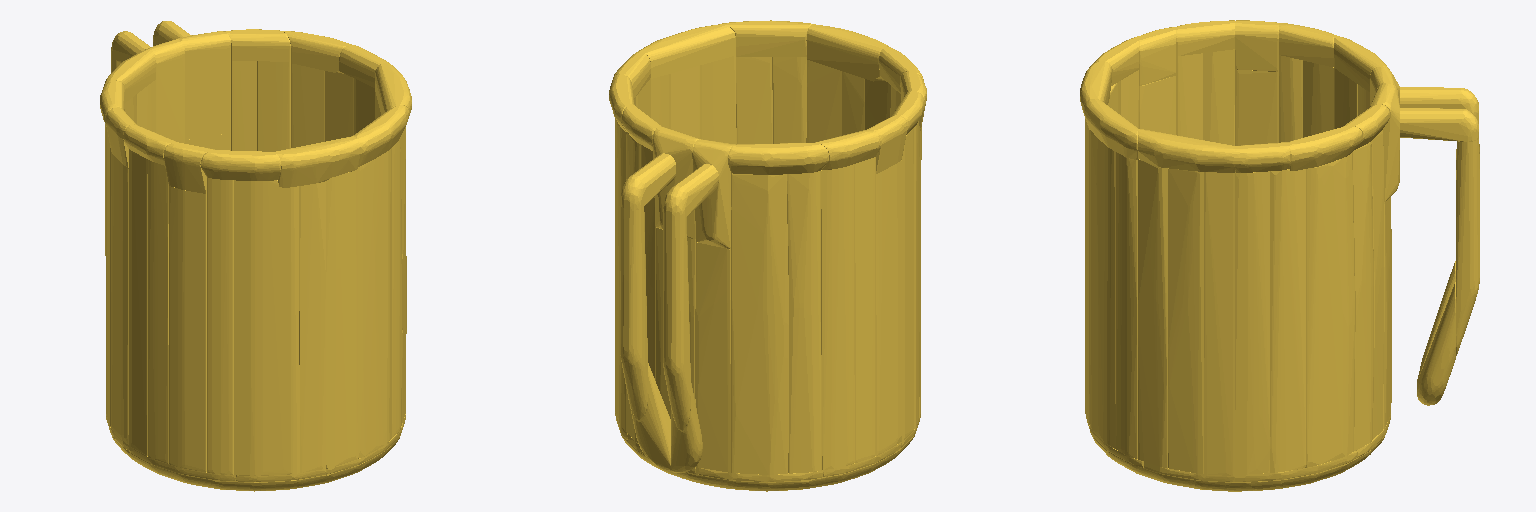
URDF robot description (84.urdf):
<?xml version="1.0" ?>
<robot name="84.urdf">
	<link name="baseLink">
		<inertial>
			<origin rpy="0 0 0" xyz="0 0 0"/>
				<mass value="0.1"/>
				<inertia ixx="6e-5" ixy="0" ixz="0" iyy="6e-5" iyz="0" izz="6e-5"/>
		</inertial>
		<visual>
			<origin rpy="0 0 0" xyz="0 0 0"/>
			<geometry>
				<mesh filename="28_decom_wt.obj" scale="0.84 0.84 0.99"/>
			</geometry>
			<material name="yellow">
				<color rgba="0.98 0.84 0.35 1"/>
			</material>
		</visual>
		<collision>
			<origin rpy="0 0 0" xyz="0 0 0"/>
			<geometry>
				<mesh filename="28_decom_wt.obj" scale="0.84 0.84 0.99"/>
			</geometry>
		</collision>
	</link>
</robot>

--- Facts derived from the render (not from the file) ---
Views: 3 orthographic renders of the robot side by side, from view 1: azimuth 30°, elevation 25°; view 2: azimuth 150°, elevation 25°; view 3: azimuth 270°, elevation 25°.
Robot: 84.urdf — 1 links, 0 joints (none); root link baseLink; default pose: every joint at zero.
Links seen in each view (by area): view 1: baseLink; view 2: baseLink; view 3: baseLink.
Link boxes in pixels (left/top/right/bottom): baseLink: left=100, top=21, right=411, bottom=491; baseLink: left=609, top=20, right=926, bottom=491; baseLink: left=1080, top=20, right=1479, bottom=491.
Bounding box of the posed robot: 0.0975 × 0.1228 × 0.1186 m (x, y, z).
Meshes: 1 distinct files referenced, 1 mesh visuals loaded (1 OBJ).